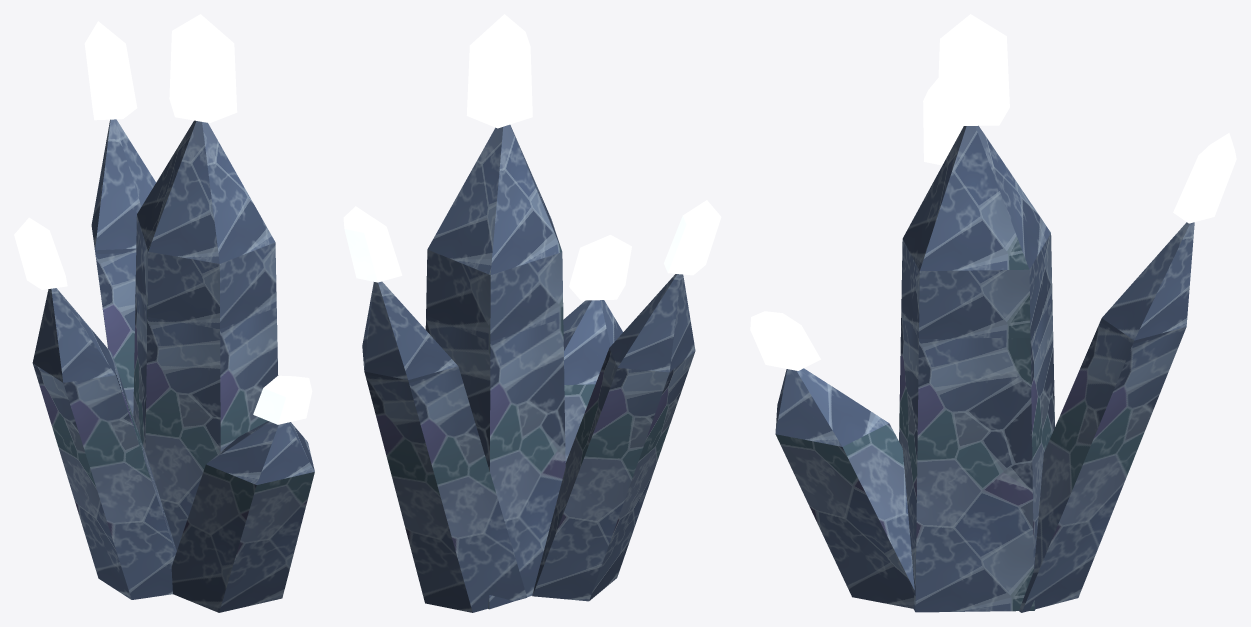
Rendered from Oracle_Crystal_Cluster_1_LOD2.gltf.
3 renders of one model, left to right at view 1: azimuth 30°, elevation 25°; view 2: azimuth 150°, elevation 25°; view 3: azimuth 270°, elevation 25°, orthographic. The views are drawn at different scales.
Visible parts, largest first — view 1: Oracle_Crystal_Cluster_1_LOD2; view 2: Oracle_Crystal_Cluster_1_LOD2; view 3: Oracle_Crystal_Cluster_1_LOD2.
Part boxes in pixels (x1,y1,x2,y2): Oracle_Crystal_Cluster_1_LOD2: [14, 14, 314, 612]; Oracle_Crystal_Cluster_1_LOD2: [343, 14, 721, 612]; Oracle_Crystal_Cluster_1_LOD2: [750, 14, 1236, 612].
Size of the model in its own units: 2.36 by 4.85 by 3.75.
Materials: 2 (2 with a texture image).
